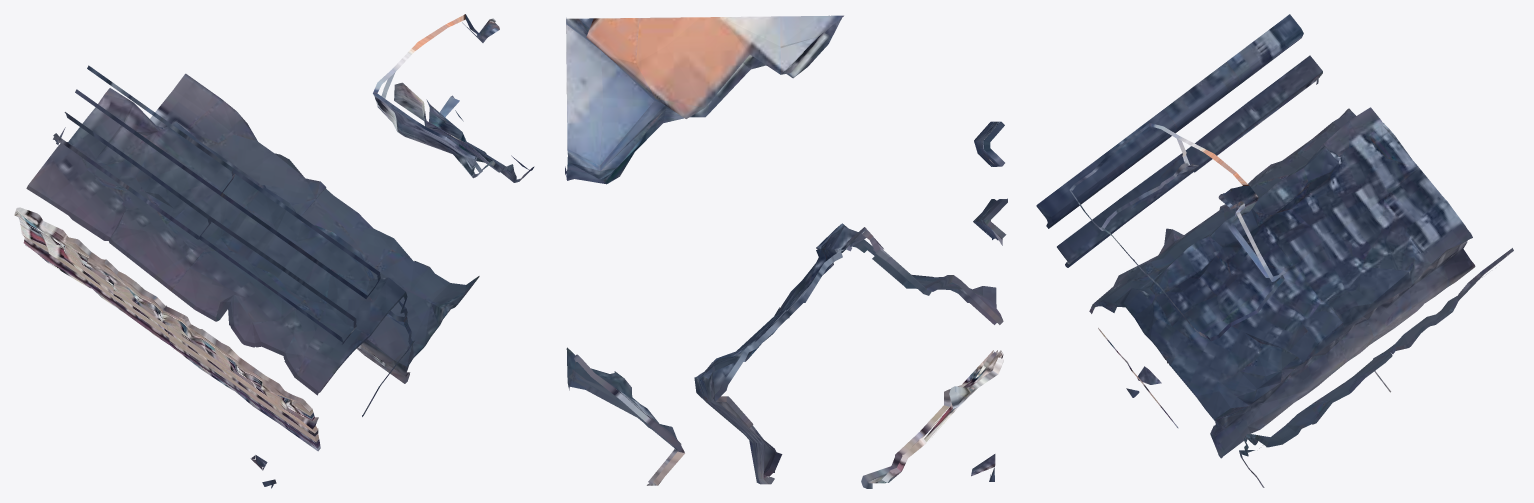
The picture shows the model from 3 angles, left to right: view 1: azimuth 30°, elevation 25°; view 2: azimuth 150°, elevation 25°; view 3: azimuth 270°, elevation 25°; orthographic projection. The views are drawn at different scales.
Bounding box in the file's own units: 50.54 × 42.11 × 53.82.
1 material, 1 textured.
